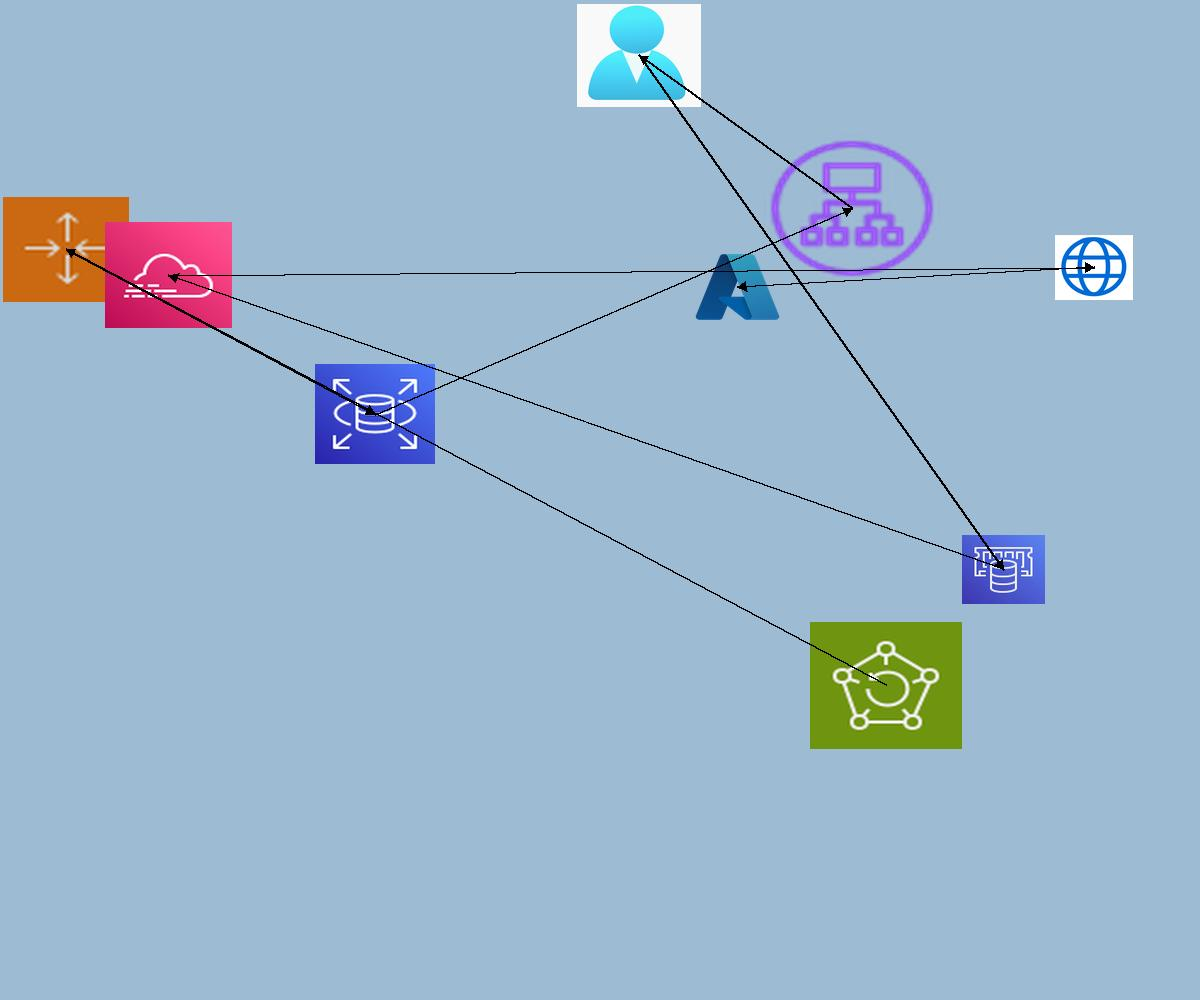AWS-Backup: (810, 622, 962, 749)
AWS-CloudTrail: (105, 222, 232, 328)
AWS-ElastiCache: (962, 535, 1045, 604)
AWS-RDS: (315, 364, 435, 464)
AWS-Res_Elastic-Load-Balancing_Application-Load-Balancer: (764, 135, 940, 282)
AWS-Scaling-group: (3, 197, 129, 302)
Azure_http: (1055, 235, 1133, 300)
Azure_services: (692, 249, 783, 325)
Azure_users: (577, 4, 701, 107)
